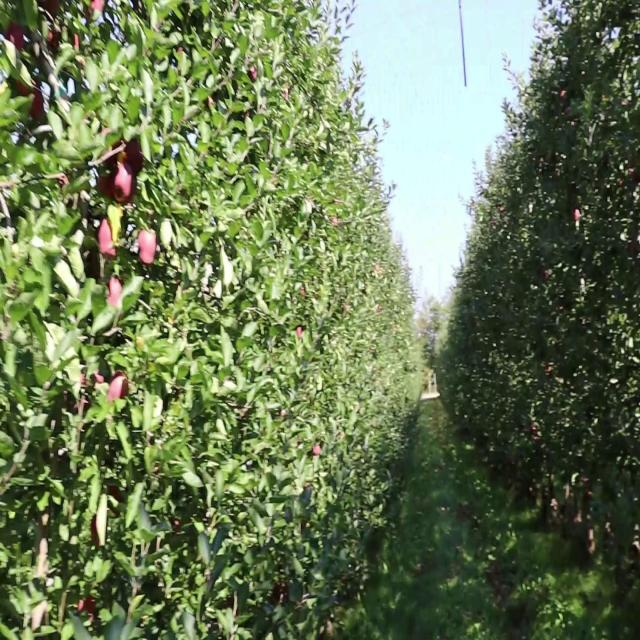apple: (16, 85, 44, 121), (96, 156, 116, 199), (100, 220, 119, 260), (116, 163, 133, 206), (124, 142, 144, 176), (112, 369, 131, 404), (4, 21, 25, 52), (140, 234, 159, 265), (32, 604, 51, 633), (96, 170, 114, 199), (108, 277, 124, 308), (16, 78, 35, 100), (32, 92, 45, 121), (80, 597, 96, 620), (48, 28, 63, 52), (88, 0, 105, 21), (108, 483, 124, 505), (92, 369, 107, 388), (92, 519, 101, 548), (628, 241, 640, 256), (60, 177, 70, 192), (300, 284, 307, 299), (312, 447, 321, 457), (296, 327, 304, 338), (572, 213, 580, 220)
